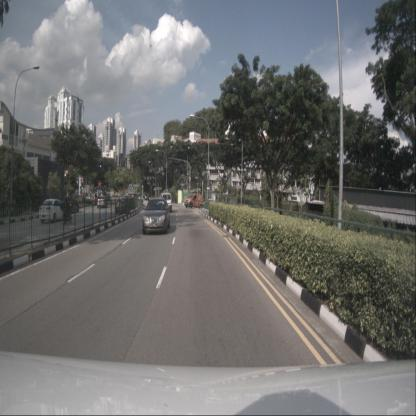human-pedestrian-adult: (225, 195, 228, 209), (90, 190, 92, 198)
vehicle-car: (142, 198, 170, 235), (38, 198, 66, 225), (184, 194, 204, 210), (62, 198, 80, 214), (115, 198, 130, 214), (161, 193, 172, 212), (97, 196, 108, 209)
vehicle-motorcycle: (62, 195, 72, 225)
